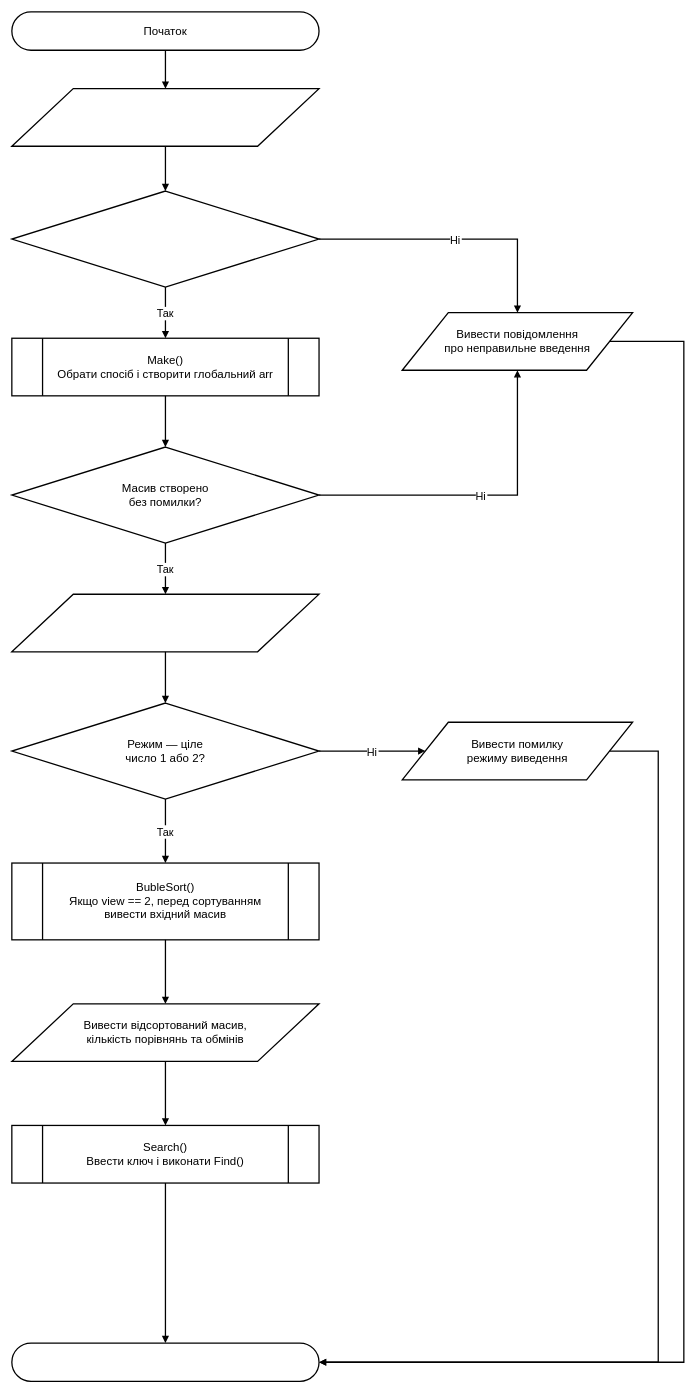
Image size: 700x1393. Some labels were removed from this diagram. Each missing label, with the centre of its shape:
"Ввести view: 1 — результат; 2 — з проходами" belongs at (165,622).
"Ввести кількість елементів n" belongs at (165,117).
"Кінець" belongs at (165,1362).
"Ціле n? 1 ≤ n ≤ 100?" belongs at (165,238).
